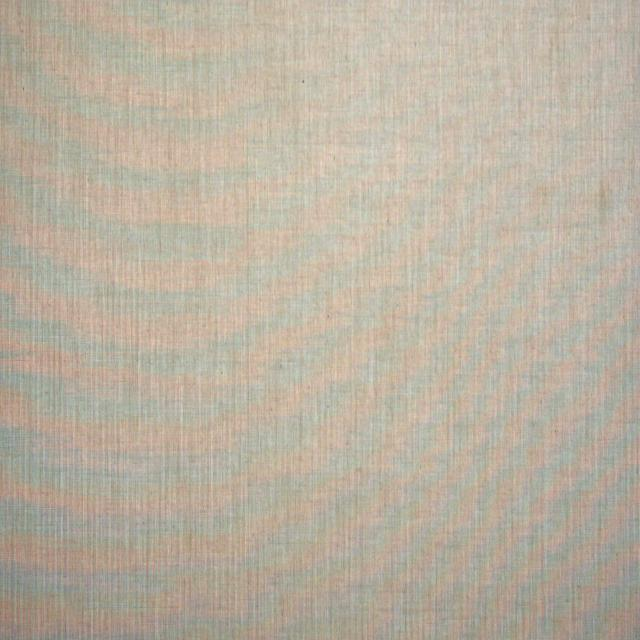dirty: (553, 34, 569, 104), (598, 179, 609, 226), (539, 183, 552, 204)
